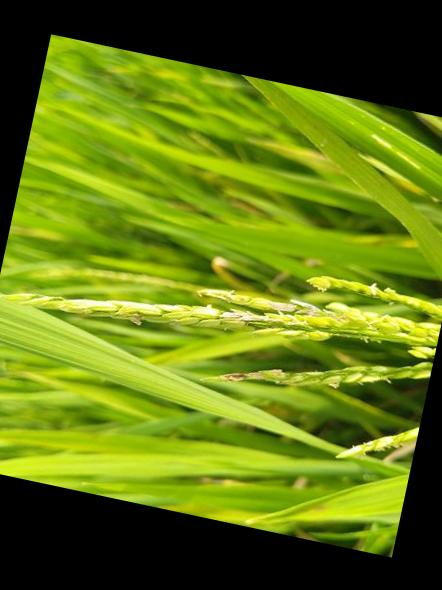Panicle Blight: (1, 282, 381, 341), (218, 368, 295, 382)
